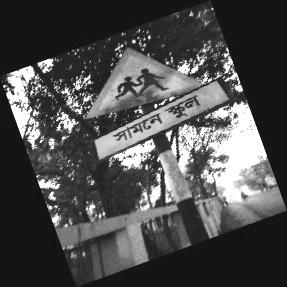School-in-front: (86, 47, 229, 165)
